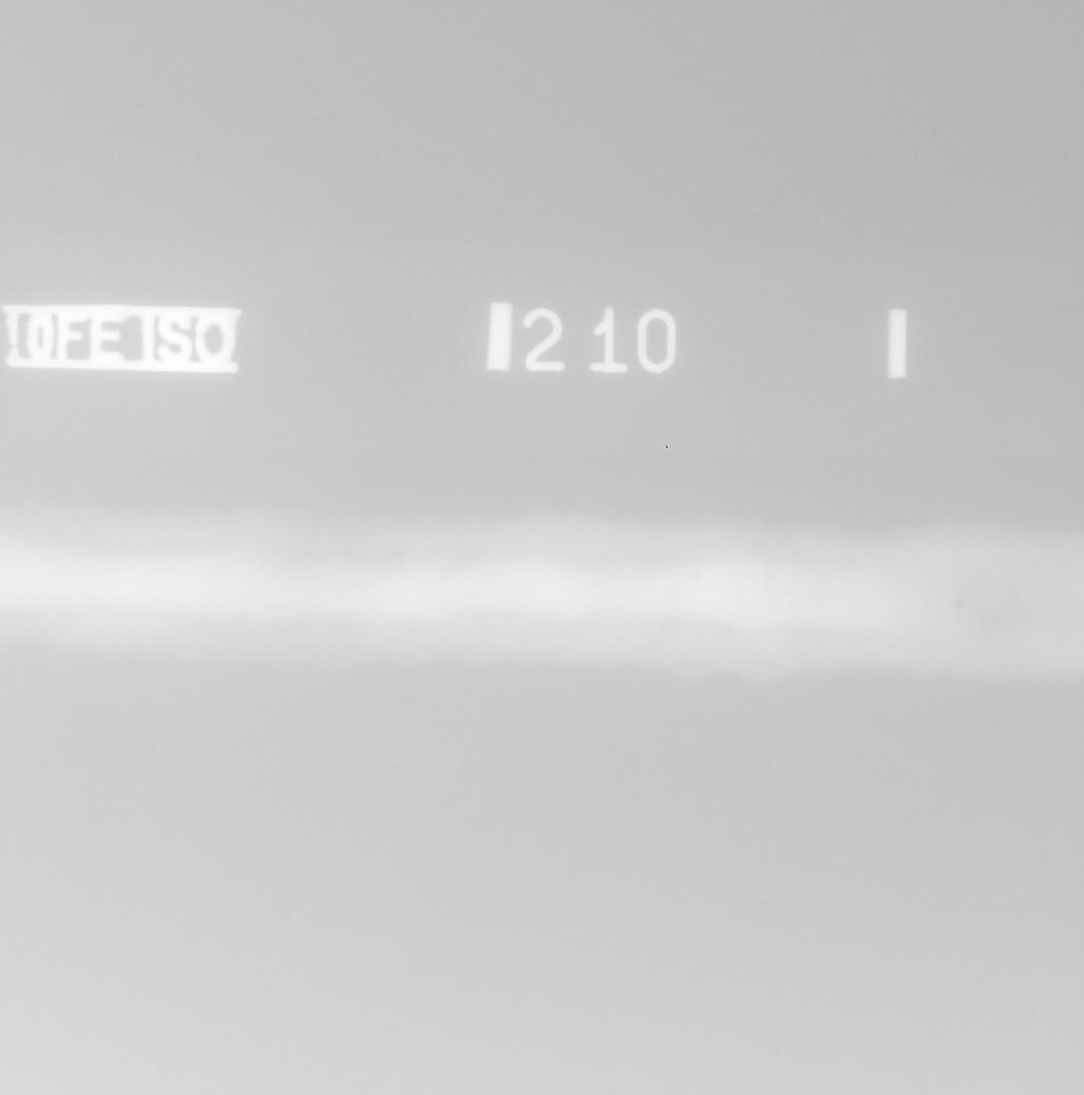Pore/Porosity: (1031, 564, 1041, 574), (956, 600, 964, 609), (980, 631, 984, 634)
